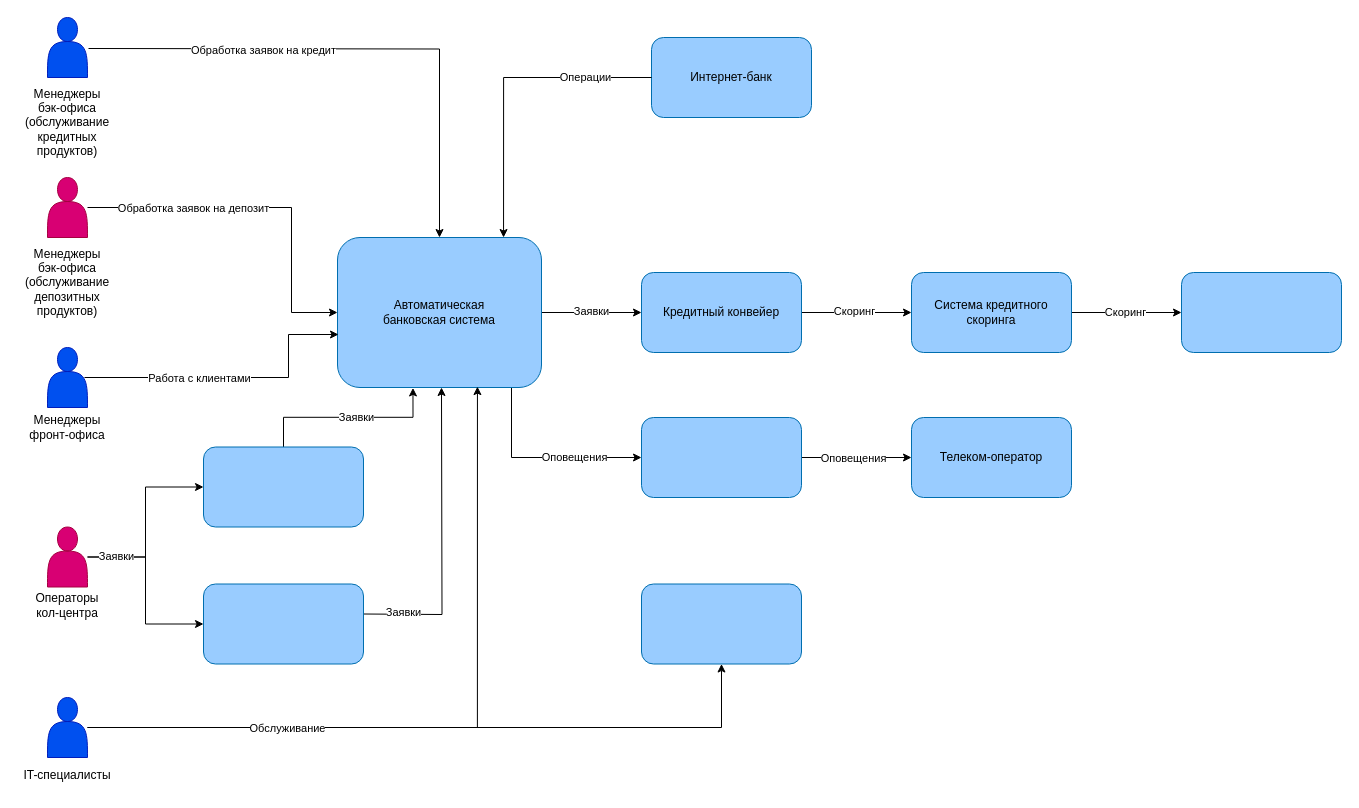
This 1359x808 diagram has some shape labels left out. The shapes that lost their labels are listed below. From the top down, each one's centre as x and y in pixels, then its label:
At point (1261, 312): "Бюро кредитных историй".
At point (721, 457): "СМС-шлюз".
At point (283, 486): "Система кол-центра".
At point (283, 623): "Система партнёрского кол-центра".
At point (721, 623): "Сайт".
